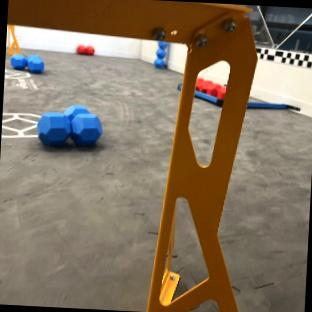Parking - B: (194, 90, 221, 104)
V5_BLUE: (36, 104, 102, 146), (10, 54, 44, 72), (154, 41, 167, 67)
V5_RED: (195, 77, 224, 98), (85, 45, 93, 54), (76, 45, 85, 52)
